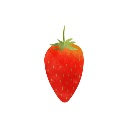strawberry: (44, 36, 84, 104)
